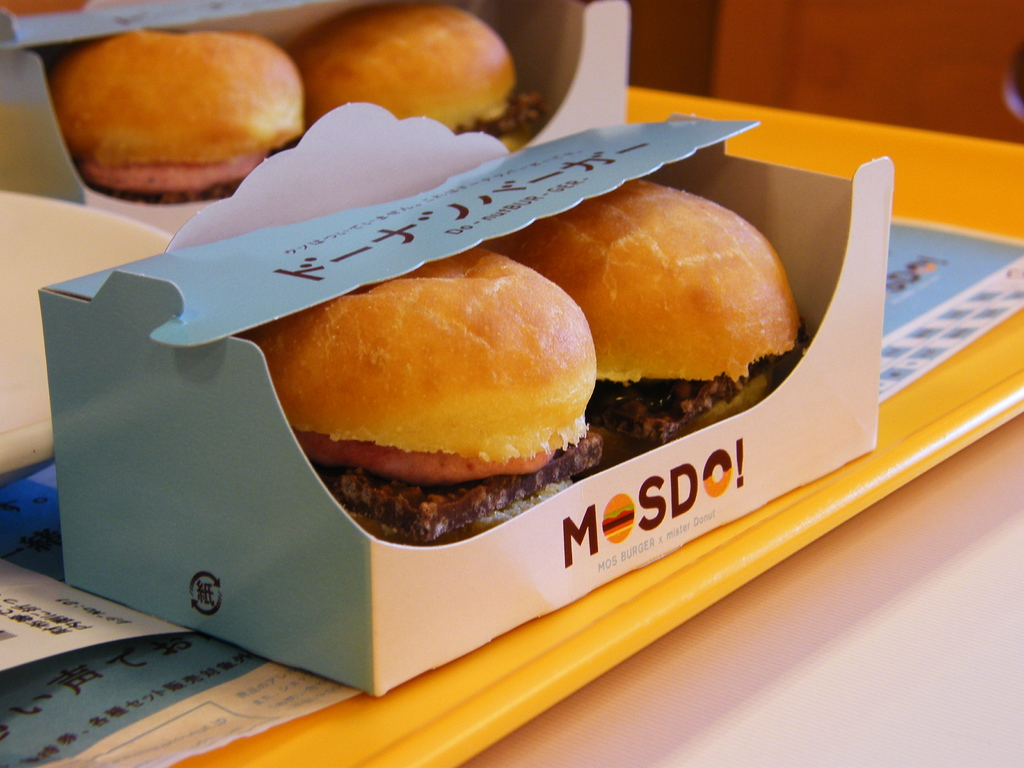Hamburger: (250, 245, 602, 542), (490, 179, 805, 445), (43, 24, 305, 203), (286, 0, 545, 138)
